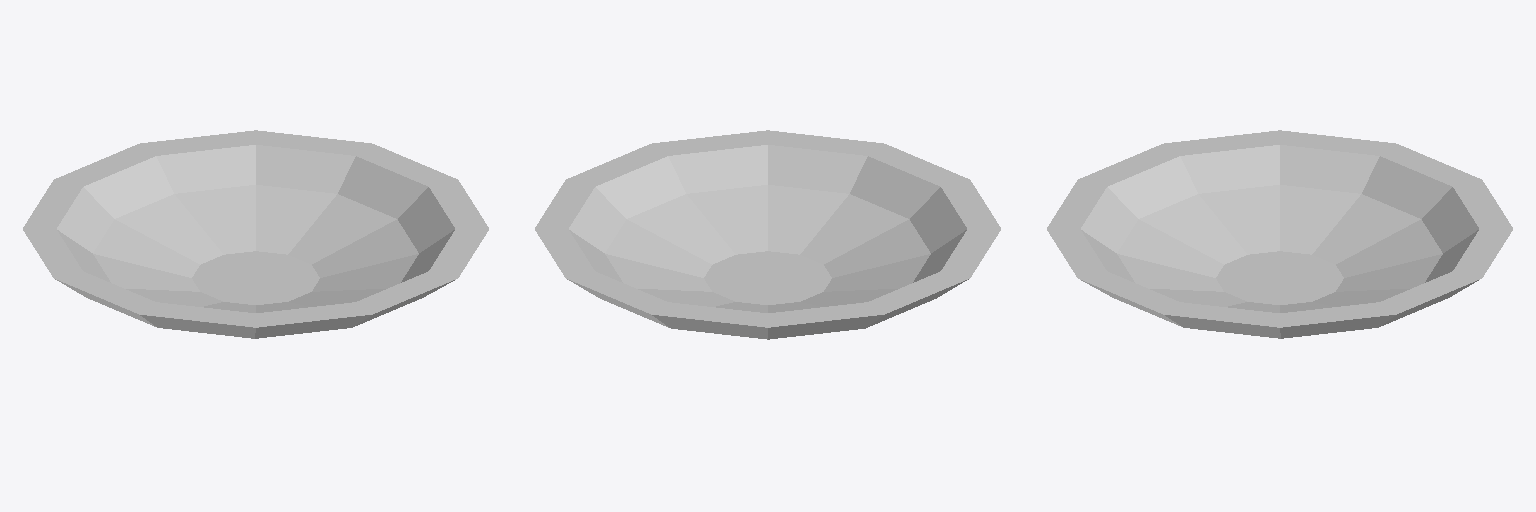
File: Fruit_Plate2.obj
3 views of the same model, side by side, from view 1: azimuth 30°, elevation 25°; view 2: azimuth 150°, elevation 25°; view 3: azimuth 270°, elevation 25° (orthographic).
Parts seen in each view (by area): view 1: Fruit_Plate2; view 2: Fruit_Plate2; view 3: Fruit_Plate2.
Part boxes in pixels (bbox=[...]): Fruit_Plate2: bbox=[23, 130, 488, 338]; Fruit_Plate2: bbox=[535, 130, 1000, 339]; Fruit_Plate2: bbox=[1047, 130, 1512, 338].
Size of the model in its own units: 0.3745 by 0.0477 by 0.3745.